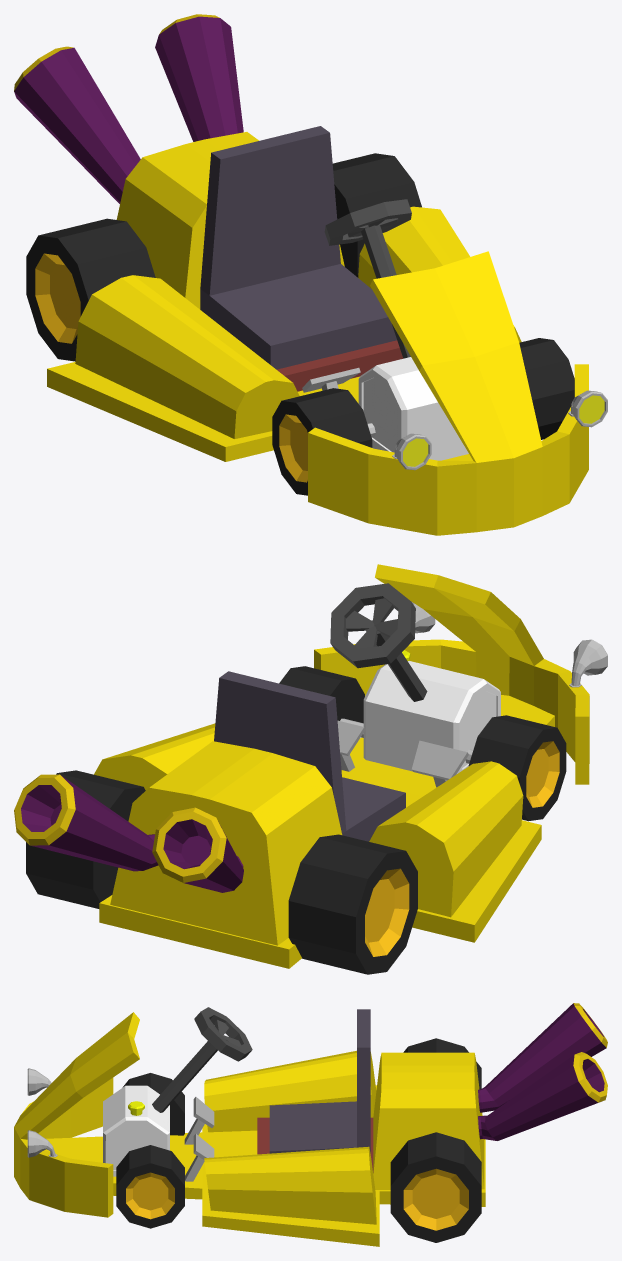
Rendered from YellowKart.glb.
3 views of the same model, one above another, from view 1: azimuth 30°, elevation 25°; view 2: azimuth 150°, elevation 25°; view 3: azimuth 270°, elevation 25° (orthographic). The views are drawn at different scales.
Visible parts, largest first — view 1: KartPlataform1, Hood1, Chair1, Catalysts1, Wheel_BR, Wheel_FR, Wheel_BL, Wheel_FL, SteeringWheel1, Lights_Kart1, Pedals1; view 2: KartPlataform1, Hood1, Wheel_BR, Catalysts1, Chair1, SteeringWheel1, Wheel_FR, Wheel_BL, Pedals1, Wheel_FL, Lights_Kart1; view 3: KartPlataform1, Hood1, Catalysts1, Wheel_BL, Chair1, Wheel_FL, SteeringWheel1, Pedals1, Wheel_FR, Lights_Kart1, Wheel_BR.
Boxes of the visible parts, x1,y1,x2,y2 form: KartPlataform1: (47, 132, 521, 461); Hood1: (308, 251, 588, 535); Chair1: (200, 126, 403, 391); Catalysts1: (14, 14, 243, 203); Wheel_BR: (26, 218, 155, 361); Wheel_FR: (272, 388, 372, 495); Wheel_BL: (332, 153, 421, 277); Wheel_FL: (519, 338, 574, 439); SteeringWheel1: (324, 199, 411, 358); Lights_Kart1: (392, 390, 607, 470); Pedals1: (302, 367, 360, 392); KartPlataform1: (94, 650, 554, 968); Hood1: (314, 564, 589, 784); Wheel_BR: (288, 834, 417, 974); Catalysts1: (14, 774, 243, 892); Chair1: (214, 671, 405, 841); SteeringWheel1: (330, 583, 427, 701); Wheel_FR: (468, 715, 566, 821); Wheel_BL: (26, 770, 145, 908); Pedals1: (337, 720, 468, 787); Wheel_FL: (279, 666, 364, 723); Lights_Kart1: (412, 602, 607, 687); KartPlataform1: (45, 1050, 485, 1246); Hood1: (14, 1012, 139, 1217); Catalysts1: (478, 1003, 607, 1140); Wheel_BL: (390, 1132, 481, 1242); Chair1: (257, 1009, 373, 1172); Wheel_FL: (116, 1145, 184, 1228); SteeringWheel1: (152, 1007, 252, 1112); Pedals1: (184, 1097, 214, 1181); Wheel_FR: (122, 1073, 184, 1135); Lights_Kart1: (27, 1068, 57, 1157); Wheel_BR: (403, 1038, 481, 1089).
Size of the model in its own units: 10.53 by 5.62 by 17.74.
